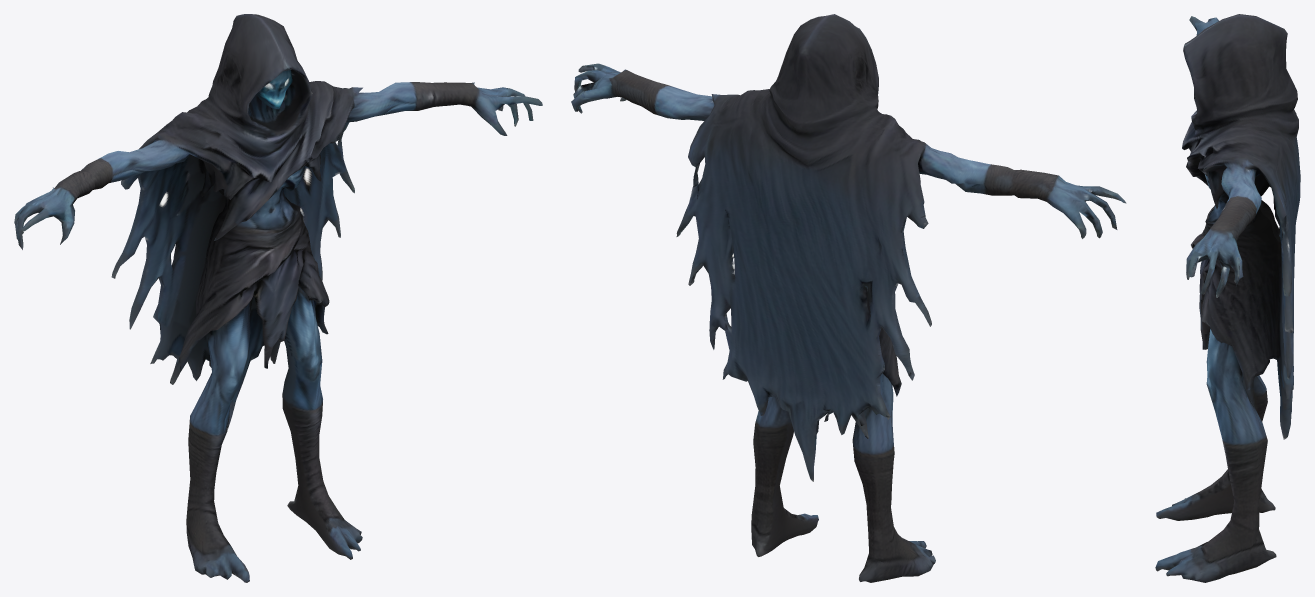
Rendered from base_basic_shaded.fbx.
The picture shows the model from 3 angles, left to right: view 1: azimuth 30°, elevation 25°; view 2: azimuth 150°, elevation 25°; view 3: azimuth 270°, elevation 25°; orthographic projection. The views are drawn at different scales.
Parts seen in each view (by area): view 1: model; view 2: model; view 3: model.
Part boxes in pixels (x1,y1,x2,y2): model: [14, 14, 542, 582]; model: [571, 14, 1126, 582]; model: [1155, 14, 1300, 582].
Bounding box in the file's own units: 187 × 180 × 44.67.
